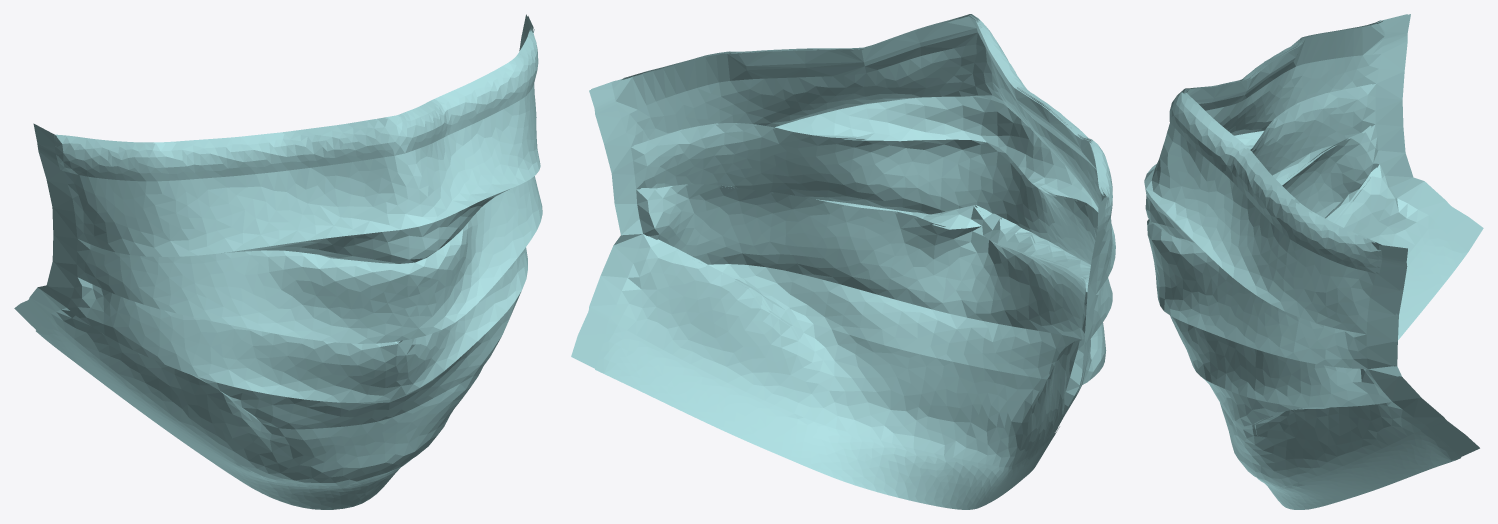
The model's file is MASK.fbx.
3 renders of one model, left to right at view 1: azimuth 30°, elevation 25°; view 2: azimuth 150°, elevation 25°; view 3: azimuth 270°, elevation 25°, orthographic. The views are drawn at different scales.
Visible parts, largest first — view 1: maske_1; view 2: maske_1; view 3: maske_1.
Boxes of the visible parts, x1=… form: maske_1: x1=14, y1=14, x2=542, y2=509; maske_1: x1=571, y1=14, x2=1115, y2=509; maske_1: x1=1144, y1=14, x2=1483, y2=509.
Bounding box in the file's own units: 241 × 202 × 154.
